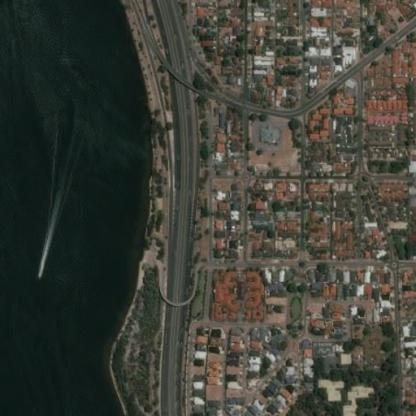ship: (38, 274, 40, 277)
